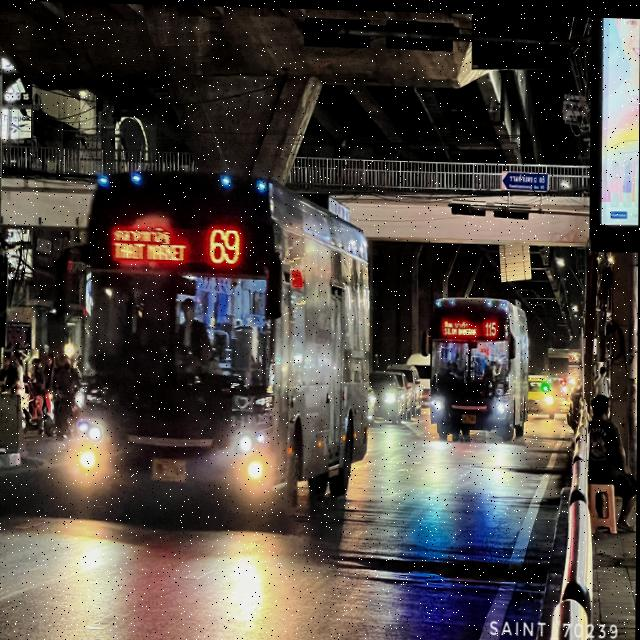Bus-Line-Number: (205, 218, 250, 269), (484, 314, 501, 335)
Destination-Sign-Normal: (109, 219, 194, 265), (445, 314, 478, 336)
TSB-Bus: (73, 157, 373, 531), (429, 283, 531, 440)
